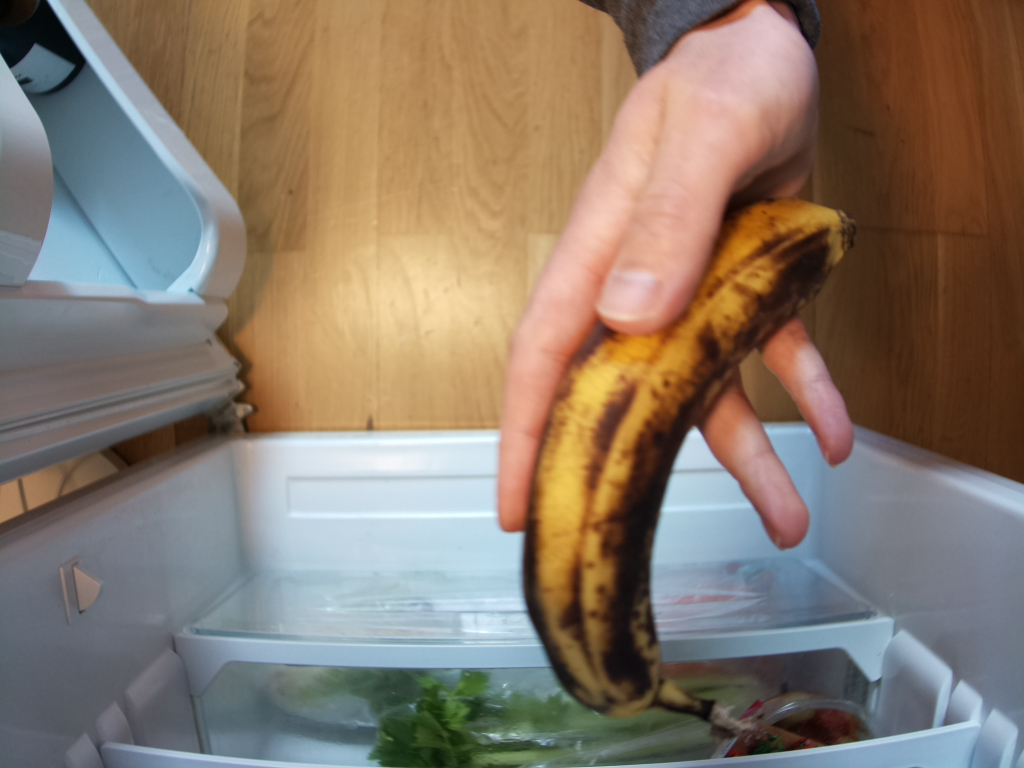banana-overripe: (526, 201, 854, 738)
